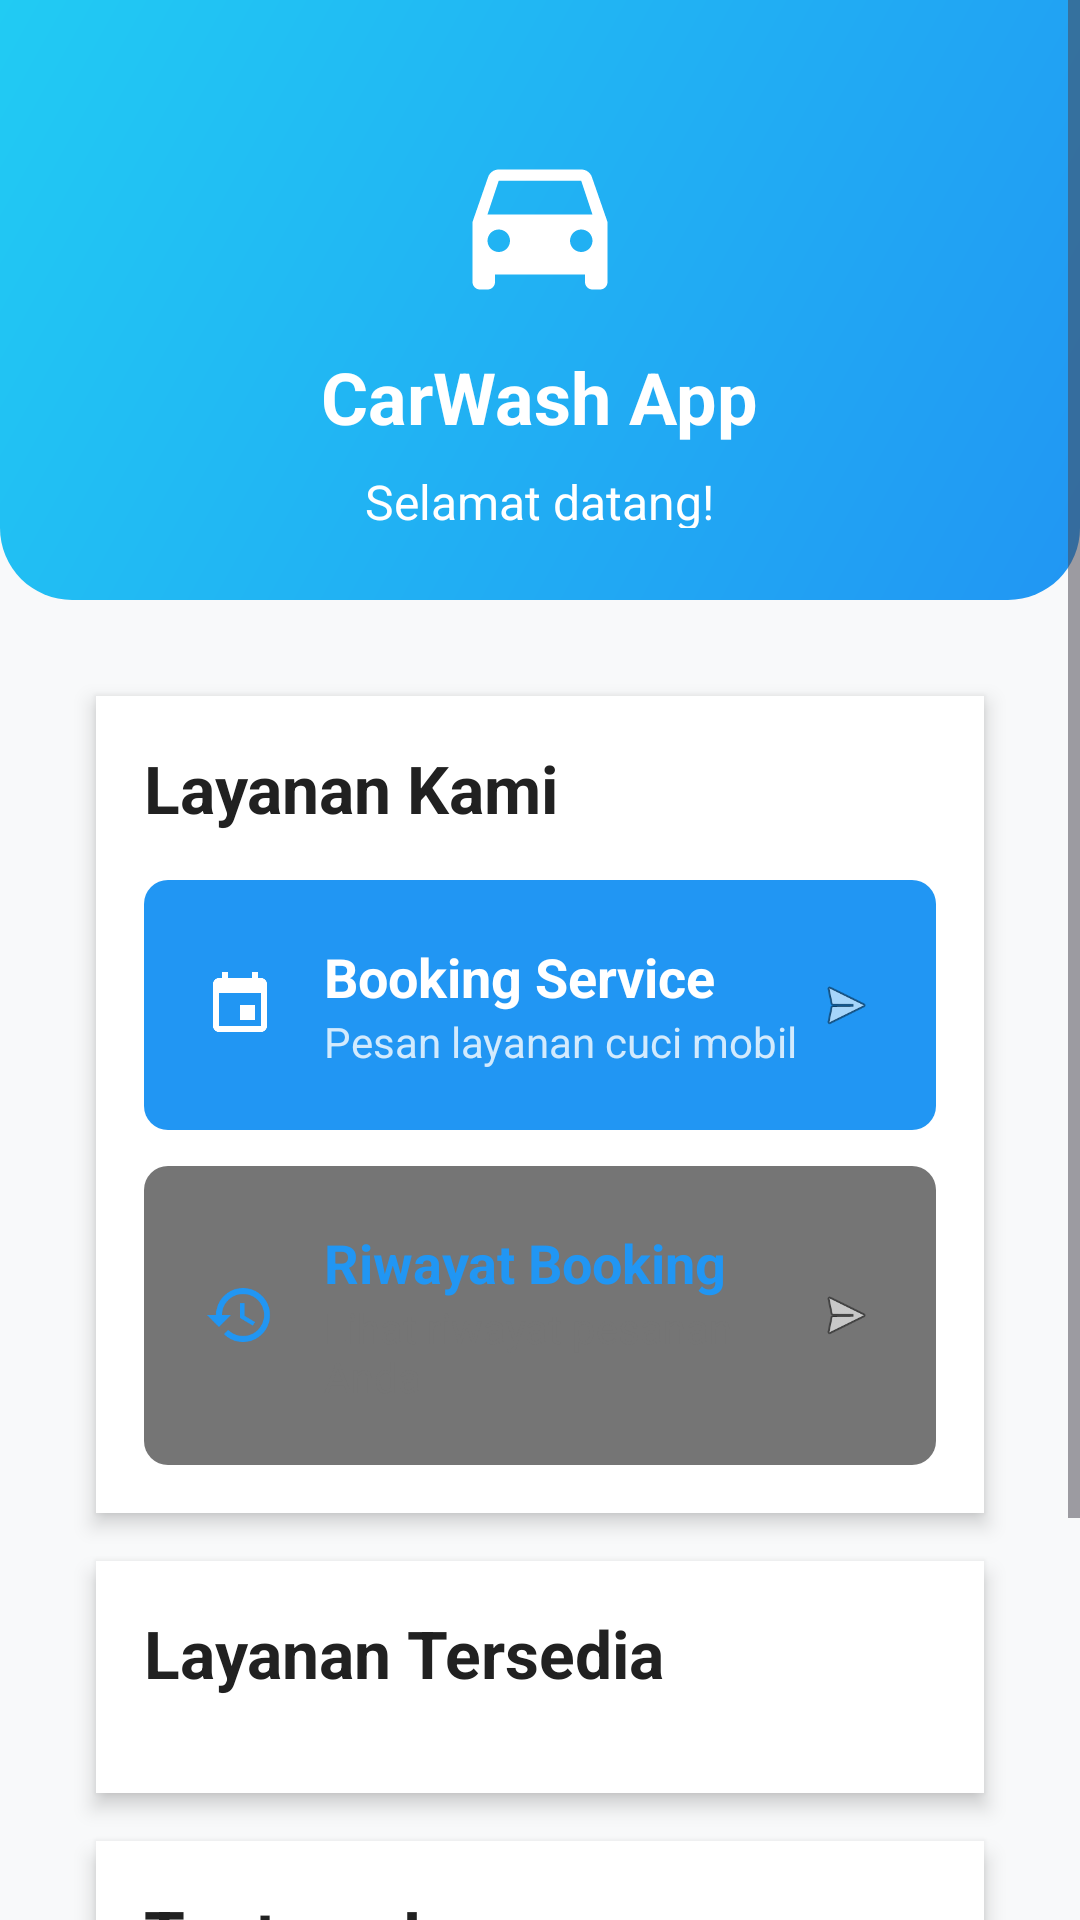

Icons on this 1080 x 1920 Android screen, each with the point to tap as (x,y):
history: (238,1315)
send: (846,1005), (846,1315)
